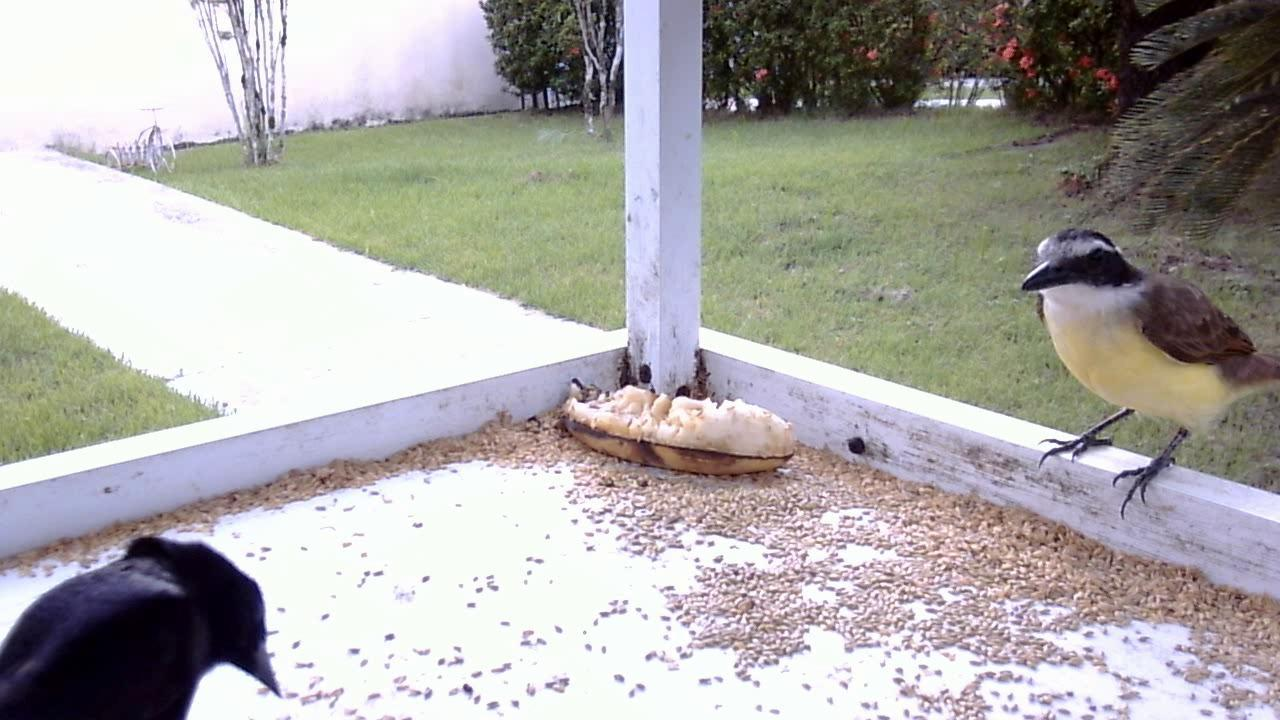bem_te_vi: (1005, 207, 1272, 523)
chupim: (1, 512, 302, 718)
